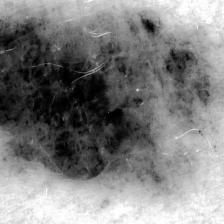Benign Marking or Mole: (0, 13, 212, 194)
